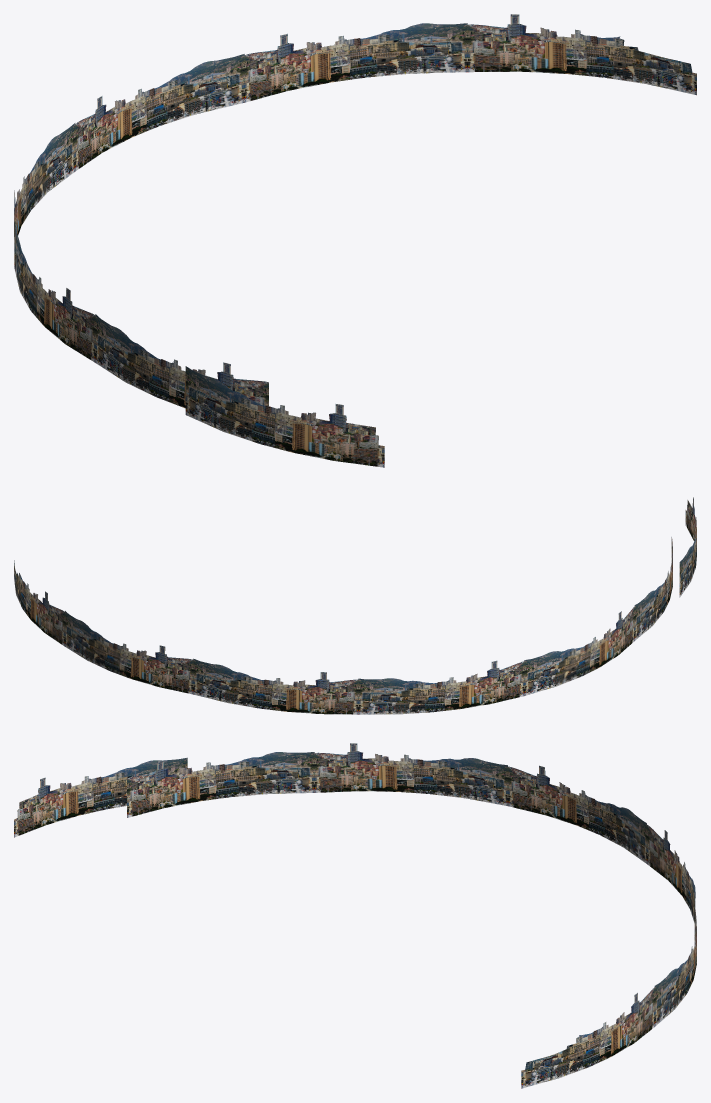
The model's file is Monaco_track_building_wall.dae.
3 views of the same model, one above another, from view 1: azimuth 30°, elevation 25°; view 2: azimuth 150°, elevation 25°; view 3: azimuth 270°, elevation 25° (orthographic). The views are drawn at different scales.
Parts seen in each view (by area): view 1: Monaco_track_building_wall; view 2: Monaco_track_building_wall; view 3: Monaco_track_building_wall.
Part boxes in pixels (x1,y1,x2,y2): Monaco_track_building_wall: [14, 14, 696, 467]; Monaco_track_building_wall: [14, 497, 696, 714]; Monaco_track_building_wall: [14, 743, 696, 1088].
Size of the model in its own units: 152 by 147 by 11.8.
1 material, 1 textured.
